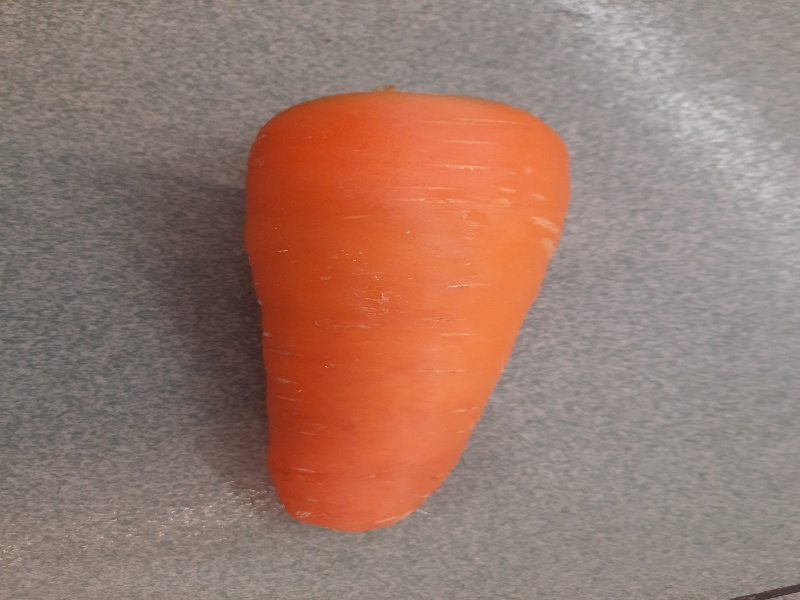fruit: (239, 81, 570, 533)
